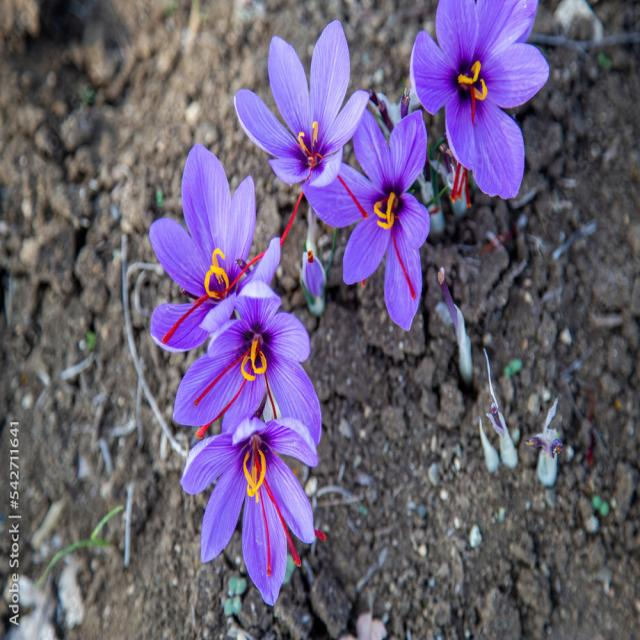saffron open: (410, 0, 549, 199), (307, 111, 430, 330), (150, 144, 280, 350), (181, 418, 320, 605), (174, 281, 321, 444), (234, 21, 369, 191)
